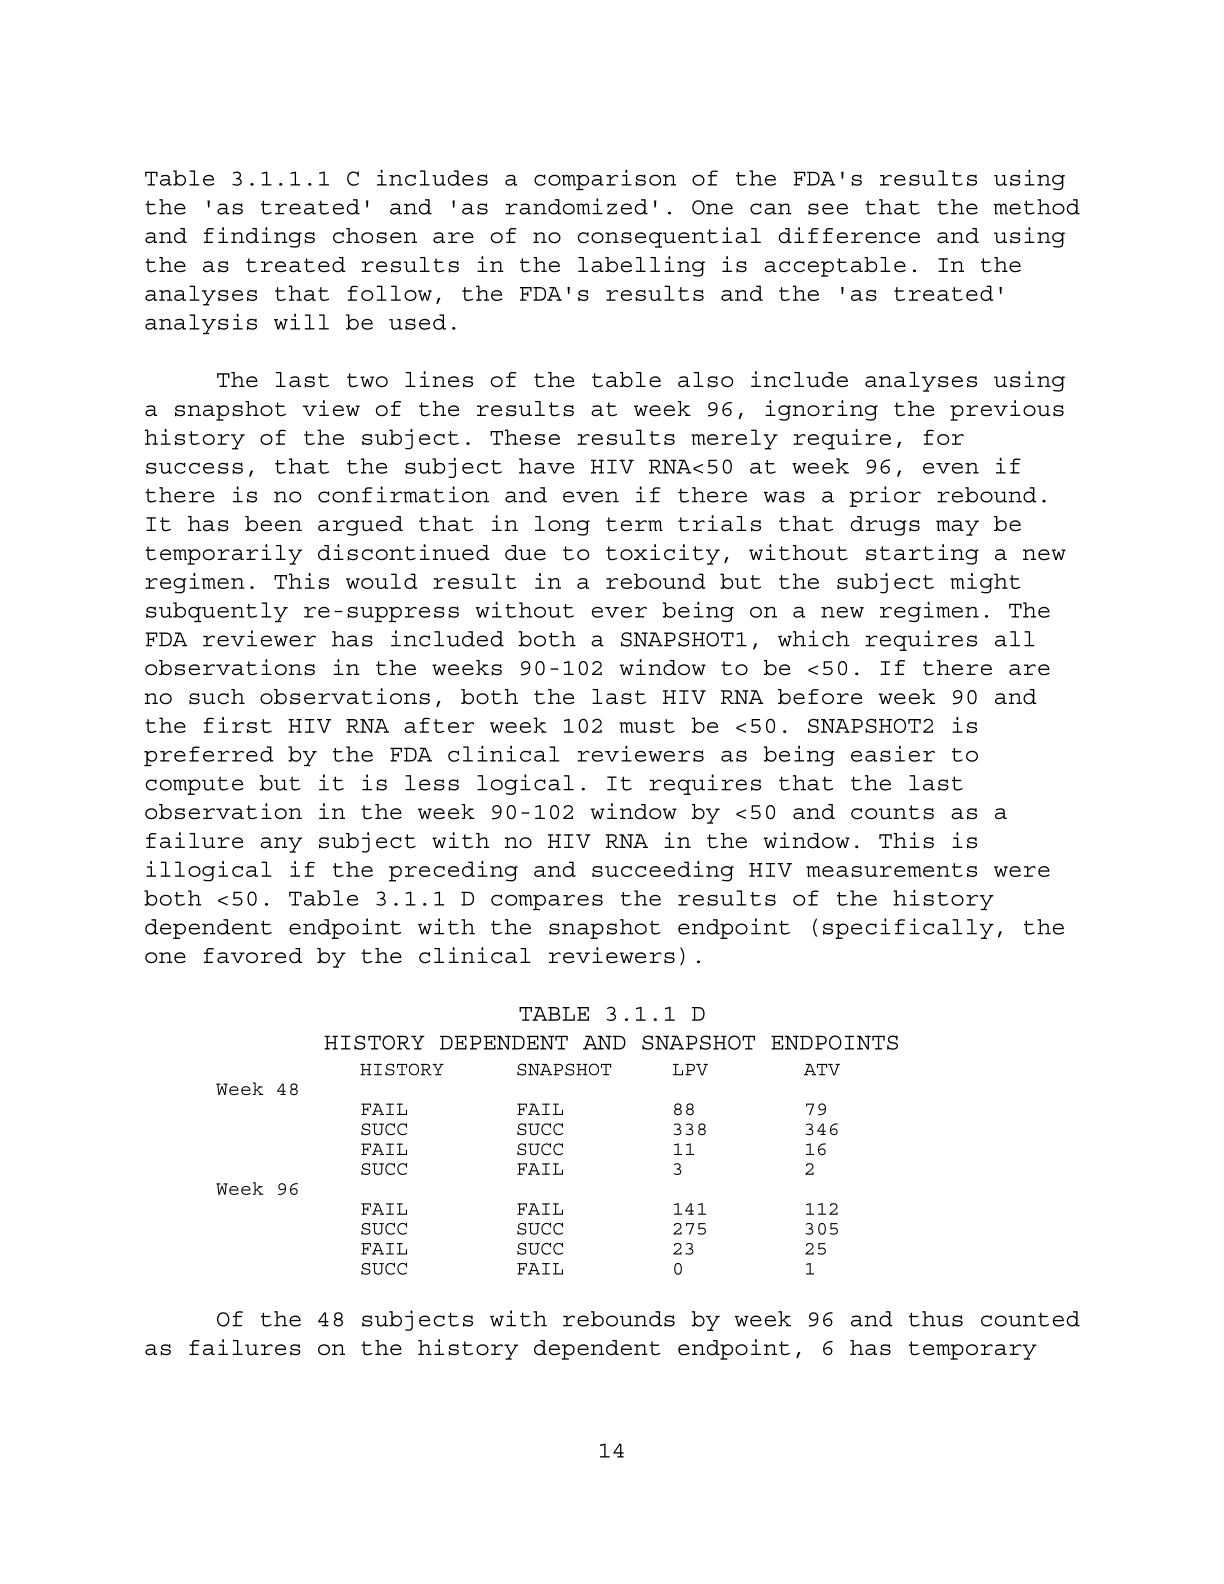nolines: (213, 1062, 843, 1281)
